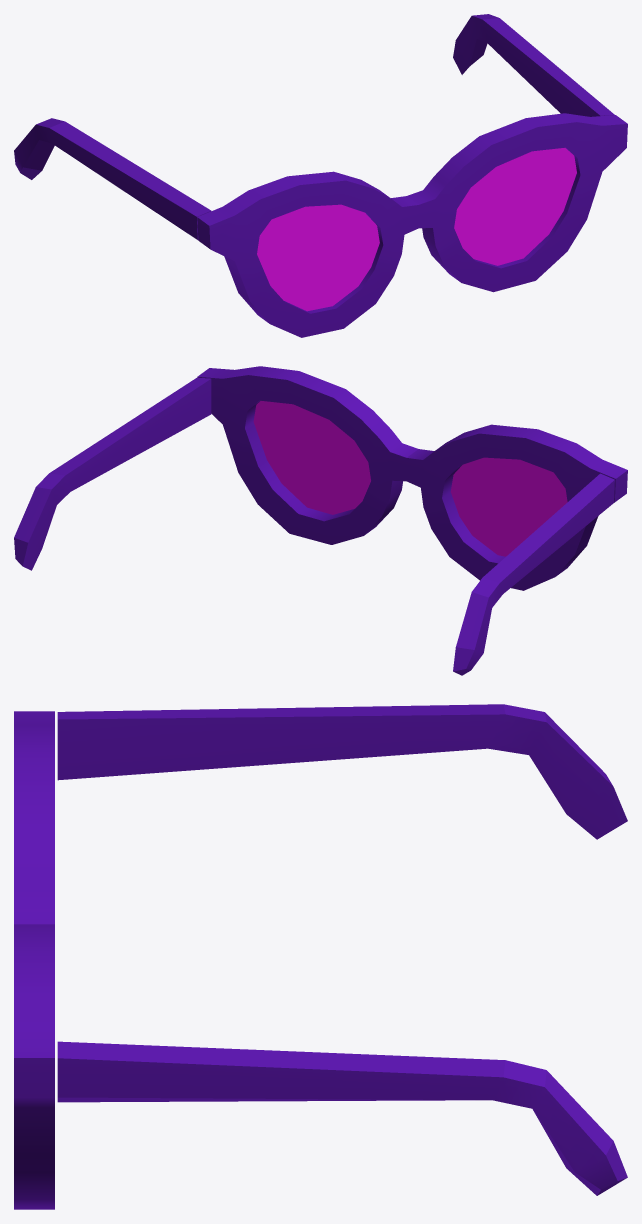
File: Eyewear_10.fbx
The picture shows the model from 3 angles, top to bottom: view 1: azimuth 30°, elevation 25°; view 2: azimuth 150°, elevation 25°; view 3: azimuth 270°, elevation 25°; orthographic projection. The views are drawn at different scales.
Parts seen in each view (by area): view 1: Eyewear_10; view 2: Eyewear_10; view 3: Eyewear_10.
Boxes of the visible parts, bbox=[...] form: Eyewear_10: bbox=[14, 14, 627, 337]; Eyewear_10: bbox=[14, 366, 627, 675]; Eyewear_10: bbox=[14, 704, 627, 1209].
Size of the model in its own units: 71.2 by 22.81 by 48.43.
